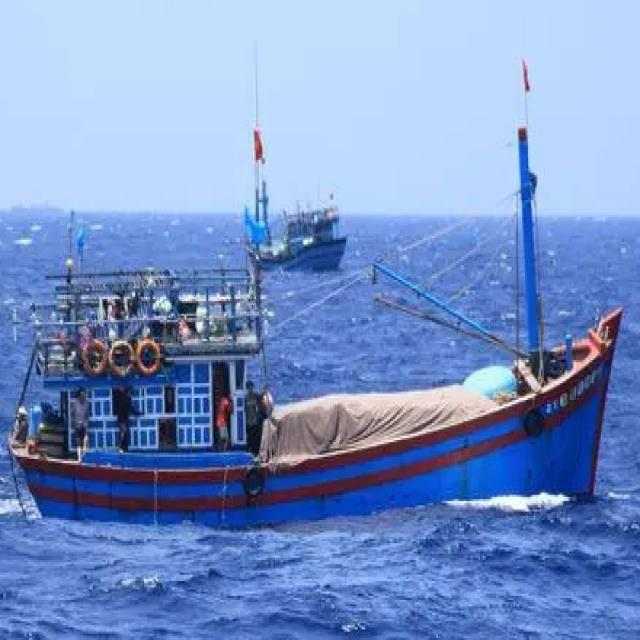fishing boat: (16, 121, 630, 528), (242, 118, 351, 265)
